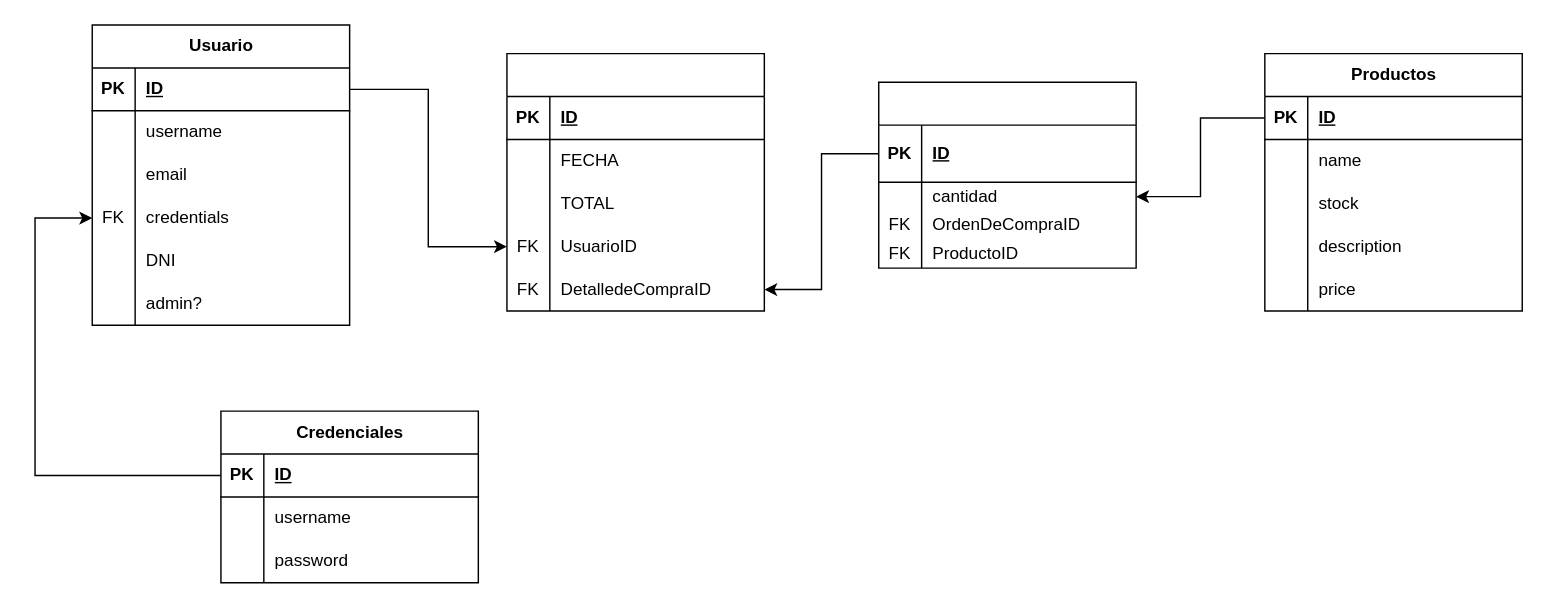
The diagram is 1547 pixels wide and 608 high, and some of its shapes have lost their labels. Here are the shapes that lost their labels. From the top down, the box of each, then its label:
(506, 52, 764, 311): Orden de Compra
(877, 81, 1136, 268): Detalles de Compras
